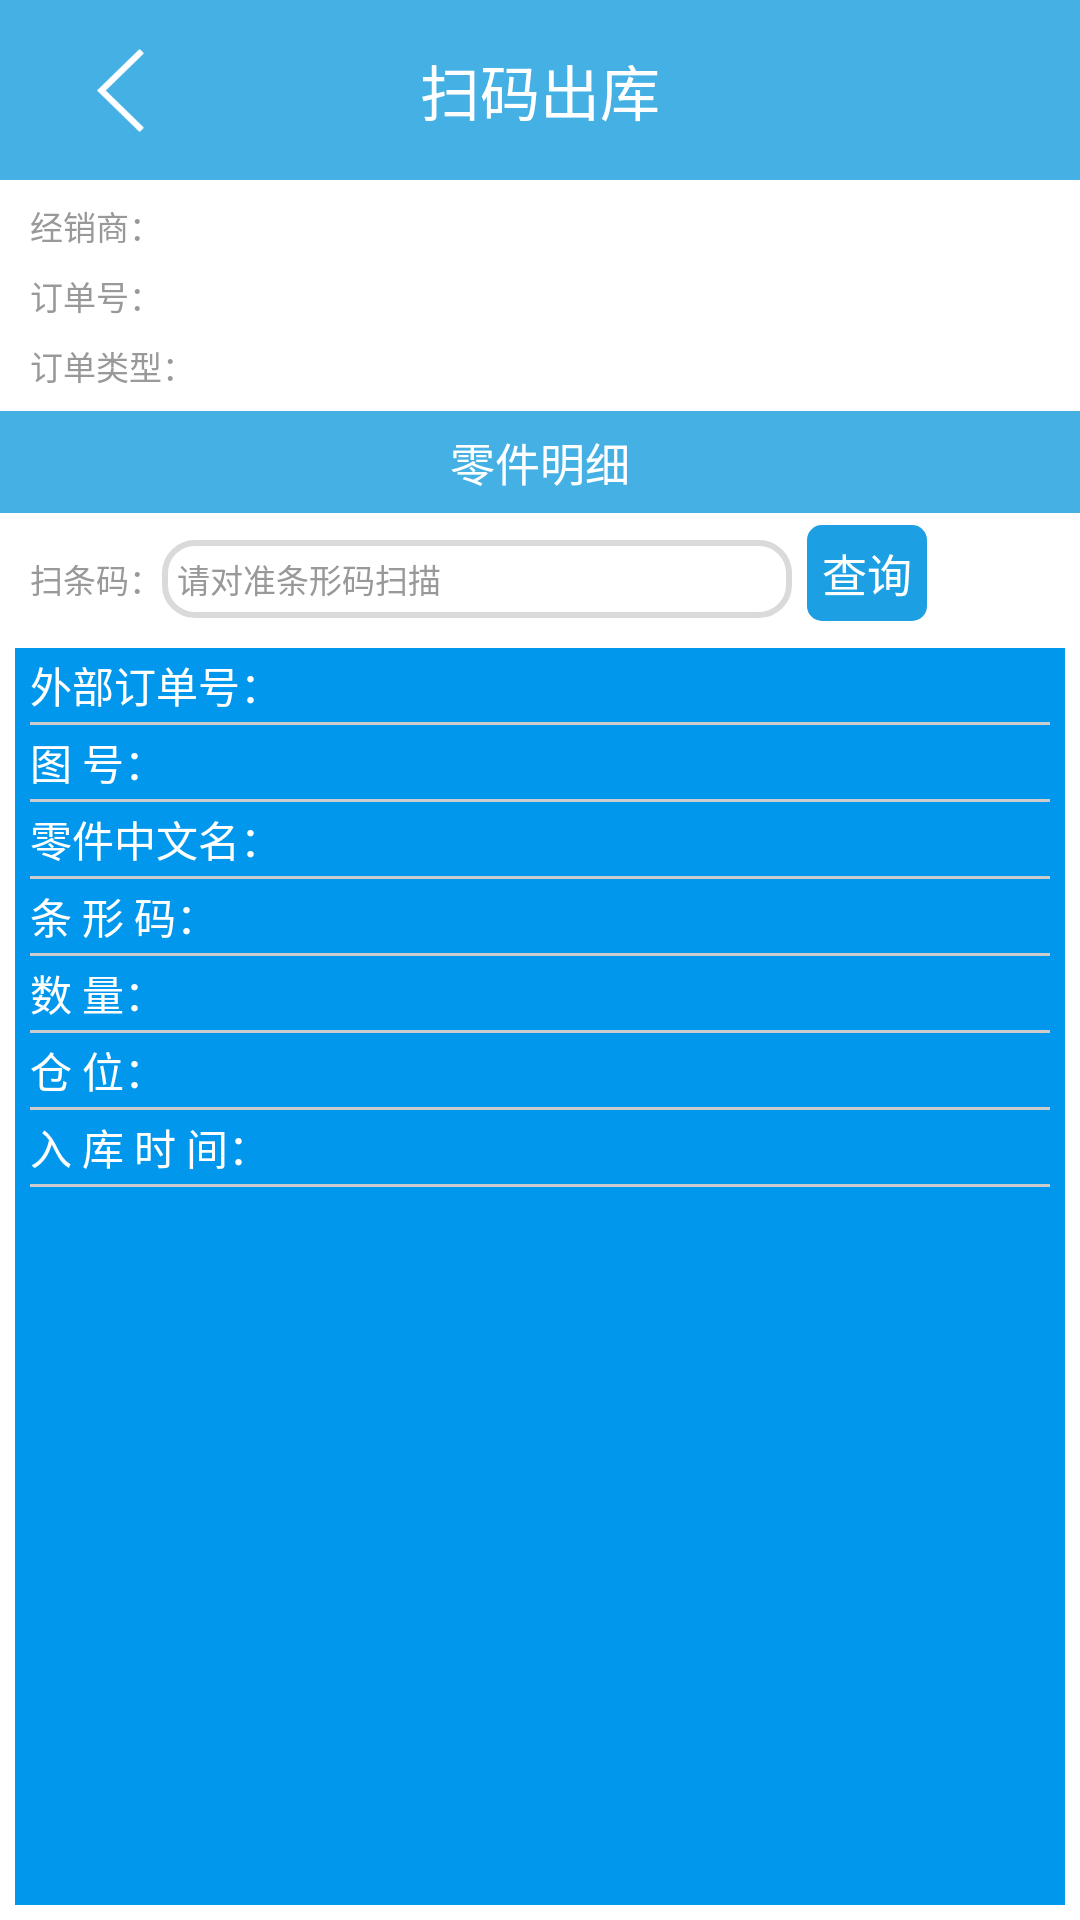

Icon click points for this 1080w x 1920h phone screenshot, format (x,y):
back: (120,90)
